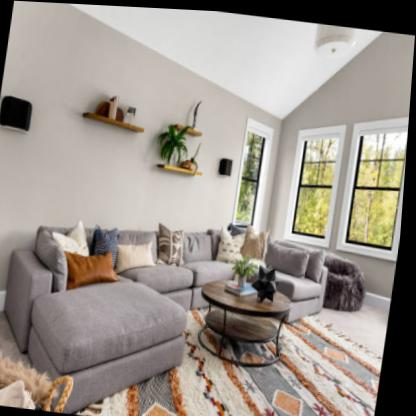Window: (338, 111, 411, 260), (284, 121, 346, 246), (235, 112, 275, 227)
